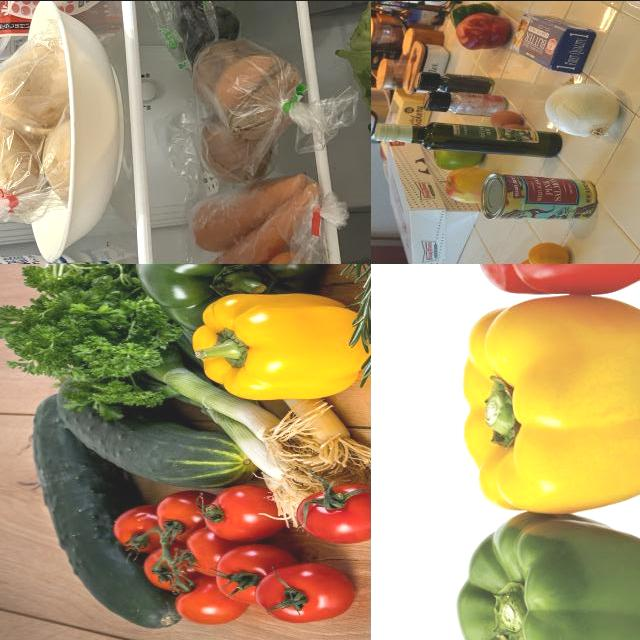bell_pepper: (459, 291, 640, 517), (453, 510, 640, 640), (186, 293, 372, 399), (134, 264, 320, 328), (455, 13, 510, 52), (415, 71, 497, 95), (445, 1, 497, 25)
carrot: (204, 180, 324, 264), (193, 172, 307, 252), (247, 251, 313, 264)
cucumber: (30, 396, 175, 629), (54, 374, 255, 489)
egg: (488, 111, 526, 131)
eggplant: (179, 5, 243, 60), (175, 1, 233, 19)
onion: (214, 54, 307, 143), (194, 38, 271, 111), (201, 114, 278, 185), (543, 79, 625, 142)
tomato: (258, 561, 356, 623), (296, 485, 372, 544), (216, 546, 290, 606), (204, 488, 280, 539), (172, 577, 242, 625), (157, 490, 214, 544), (112, 504, 166, 546), (143, 550, 197, 590)
